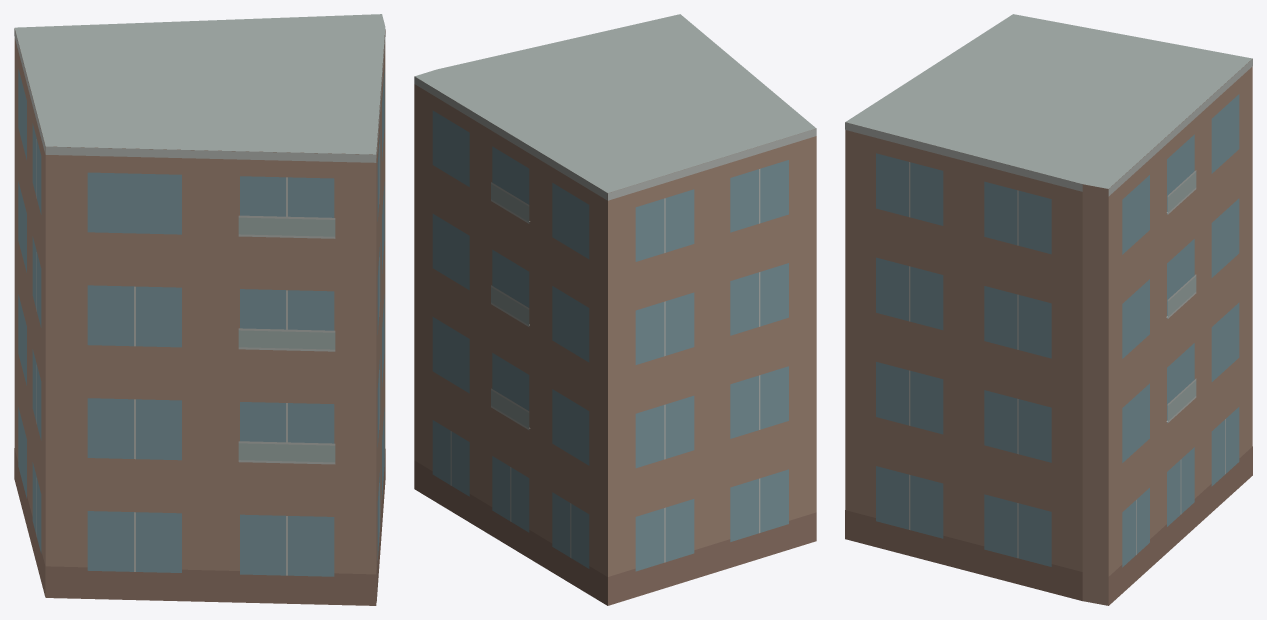
The model's file is survey-upis-32543346.glb.
3 renders of one model, left to right at view 1: azimuth 30°, elevation 25°; view 2: azimuth 150°, elevation 25°; view 3: azimuth 270°, elevation 25°, orthographic. The views are drawn at different scales.
Parts seen in each view (by area): view 1: survey-upis-32543346.tmp; view 2: survey-upis-32543346.tmp; view 3: survey-upis-32543346.tmp.
Part boxes in pixels (left/top/right/bottom): survey-upis-32543346.tmp: left=14, top=14, right=385, bottom=605; survey-upis-32543346.tmp: left=414, top=14, right=816, bottom=605; survey-upis-32543346.tmp: left=845, top=14, right=1252, bottom=605.
Size of the model in its own units: 11.88 by 13.2 by 11.7.
